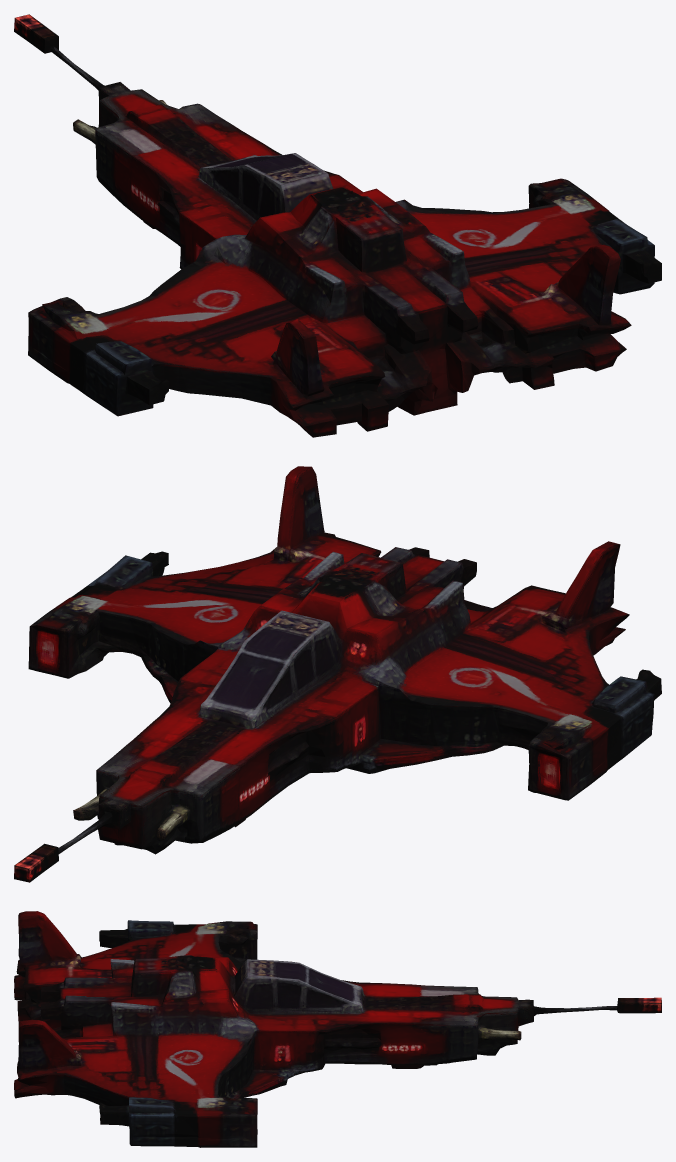
File: sample.obj
The picture shows the model from 3 angles, top to bottom: view 1: azimuth 30°, elevation 25°; view 2: azimuth 150°, elevation 25°; view 3: azimuth 270°, elevation 25°; orthographic projection. The views are drawn at different scales.
Visible parts, largest first — view 1: geometry_0; view 2: geometry_0; view 3: geometry_0.
Boxes of the visible parts, x1=… form: geometry_0: x1=14, y1=14, x2=661, y2=437; geometry_0: x1=14, y1=466, x2=661, y2=882; geometry_0: x1=14, y1=911, x2=661, y2=1147.
Size of the model in its own units: 0.7054 by 0.1837 by 1.
1 material, 1 textured.
